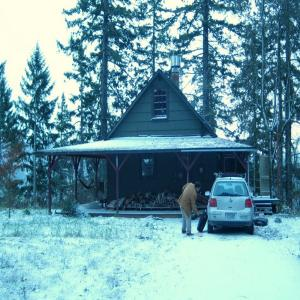Vehicle-registration-plate: (228, 213, 237, 220)
